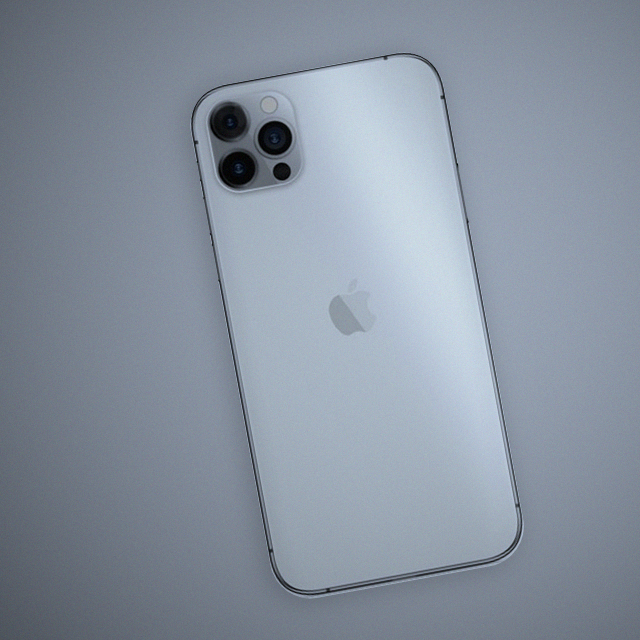iphone_12pro_silver: (178, 42, 543, 610), (192, 84, 309, 203)
